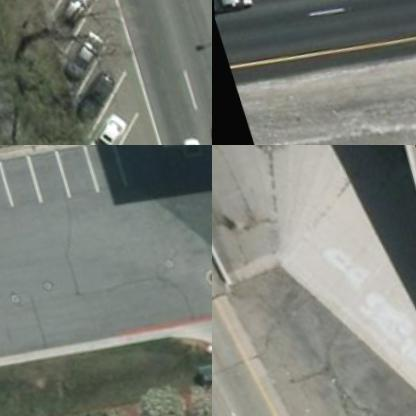car: (62, 67, 118, 124), (49, 29, 104, 86), (75, 106, 130, 144), (36, 0, 93, 26), (212, 0, 253, 22), (167, 127, 208, 144)
